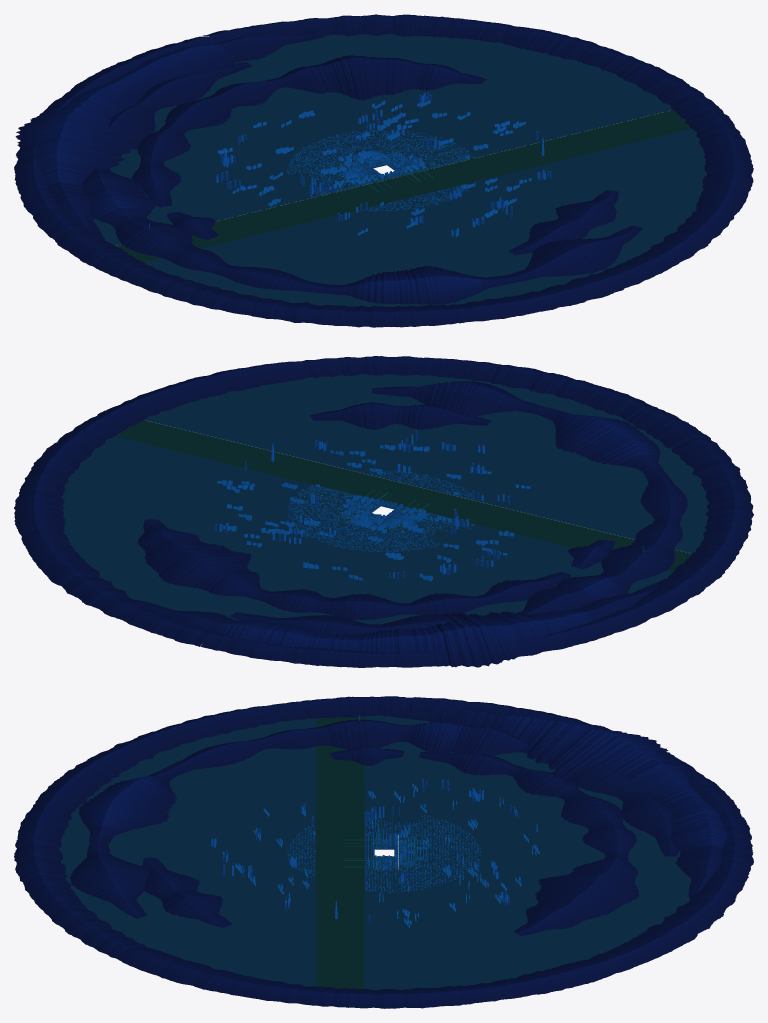
File: nowhere-backdrop.glb
3 renders of one model, top to bottom at view 1: azimuth 30°, elevation 25°; view 2: azimuth 150°, elevation 25°; view 3: azimuth 270°, elevation 25°, orthographic.
Parts seen in each view (by area): view 1: BD_ground, BD_ridge_4, BD_ridge_2, BD_ridge_1, BD_ridge_3, BD_river, BD_far, BD_mid_n; view 2: BD_ground, BD_ridge_4, BD_ridge_2, BD_ridge_1, BD_ridge_3, BD_river, BD_far, BD_mid_n; view 3: BD_ground, BD_ridge_4, BD_ridge_2, BD_ridge_1, BD_ridge_3, BD_river, BD_far, BD_mid_n, BD_roads.
Part boxes in pixels (x1,y1,x2,y2): BD_ground: (93,33,707,307); BD_ridge_4: (14,14,753,327); BD_ridge_2: (81,62,642,304); BD_ridge_1: (132,55,618,255); BD_ridge_3: (15,35,322,236); BD_river: (103,110,730,271); BD_far: (216,92,551,235); BD_mid_n: (341,150,412,175); BD_ground: (61,374,709,643); BD_ridge_4: (14,356,753,667); BD_ridge_2: (230,381,687,634); BD_ridge_1: (137,402,614,619); BD_ridge_3: (141,581,659,667); BD_river: (103,410,731,572); BD_far: (214,439,530,581); BD_mid_n: (341,504,415,529); BD_ground: (58,715,691,990); BD_ridge_4: (14,696,753,1008); BD_ridge_2: (69,719,678,918); BD_ridge_1: (142,746,638,935); BD_ridge_3: (390,709,727,896); BD_river: (316,699,364,1005); BD_far: (223,779,539,927); BD_mid_n: (394,832,427,868); BD_roads: (343,815,424,889).
Bounding box in the file's own units: 12651 × 371 × 12653.
5 materials, 4 textured.
